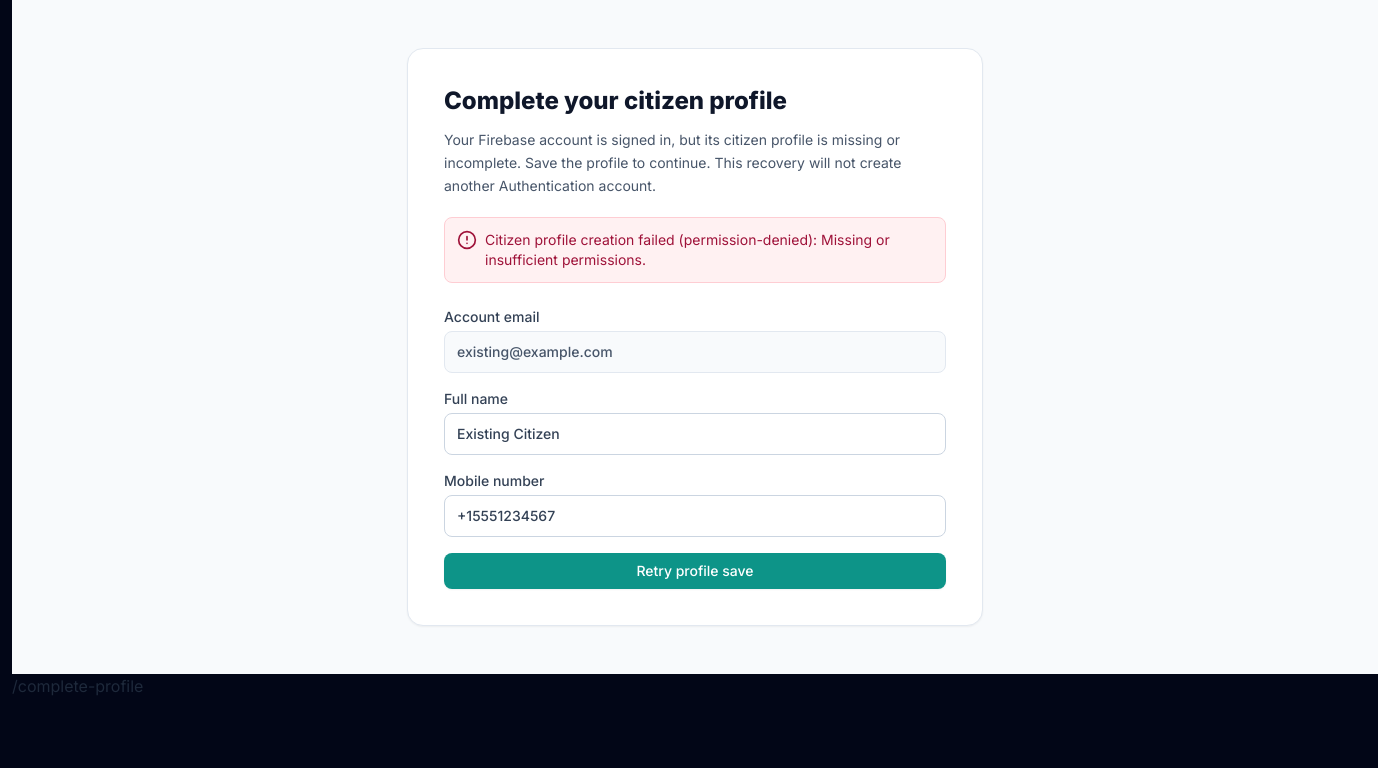
Scenario: CompleteCitizenProfilePage › shows the saved profile error and retries the existing authenticated account
Expected: the message shows "permission-denied", [485,231,890,268]
Click the button "Retry profile save". click: (695, 571)
box: [444,553,946,589]
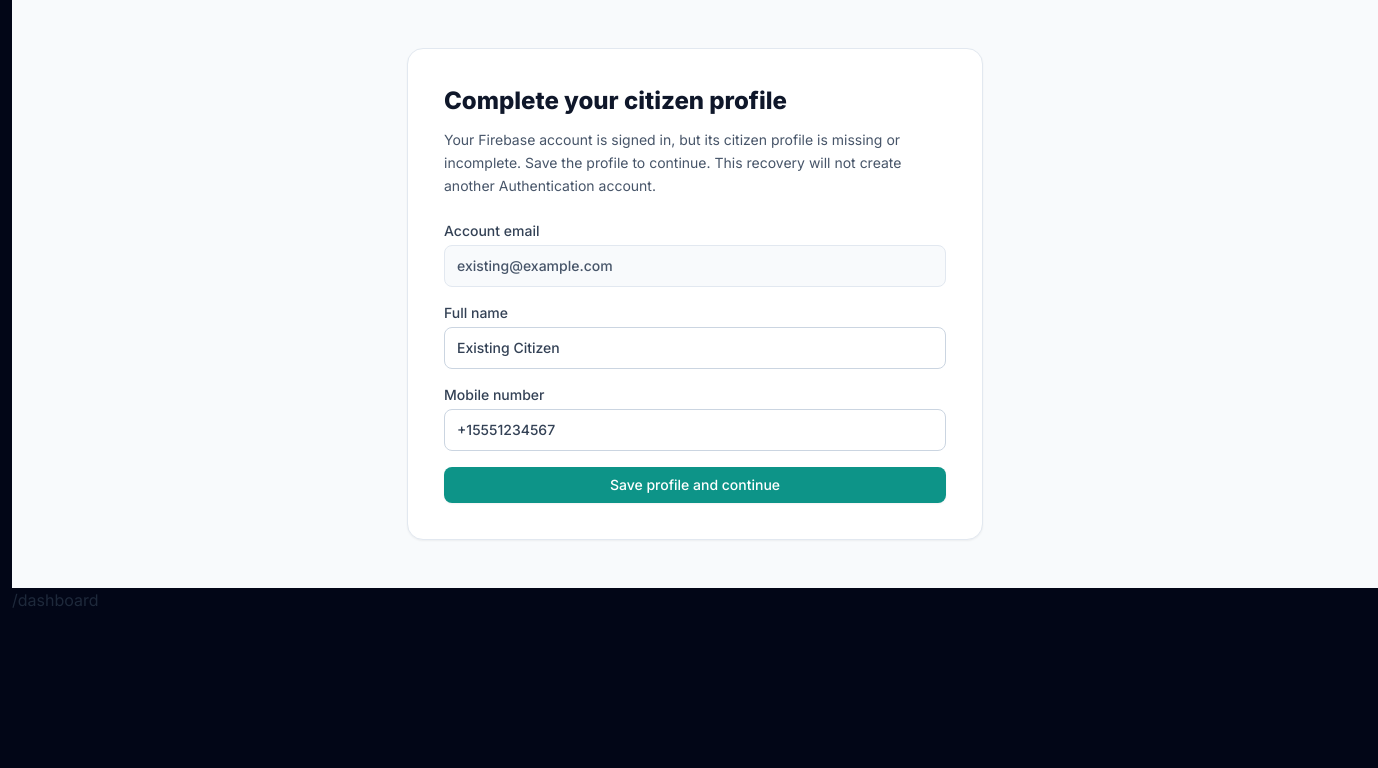
Expected: the text with test id "route" reads "/dashboard", [12,590,98,610]
